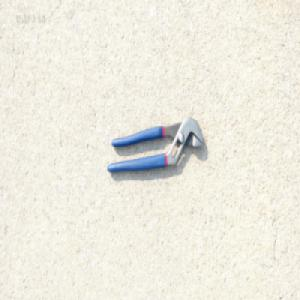Pliers: (106, 116, 204, 174)
